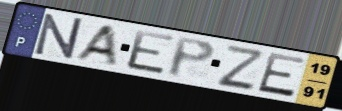A: (70, 24, 119, 67)
E: (254, 51, 308, 100), (124, 28, 177, 77)
N: (33, 12, 85, 61)
P: (166, 36, 218, 80)
Z: (215, 42, 264, 91)
